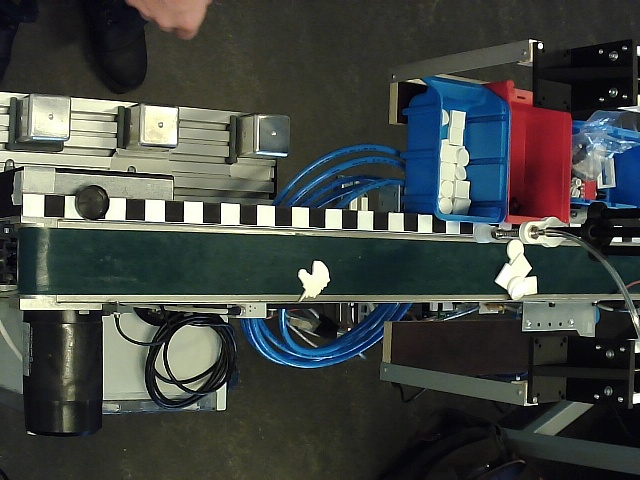unicorn: (297, 260, 331, 302)
